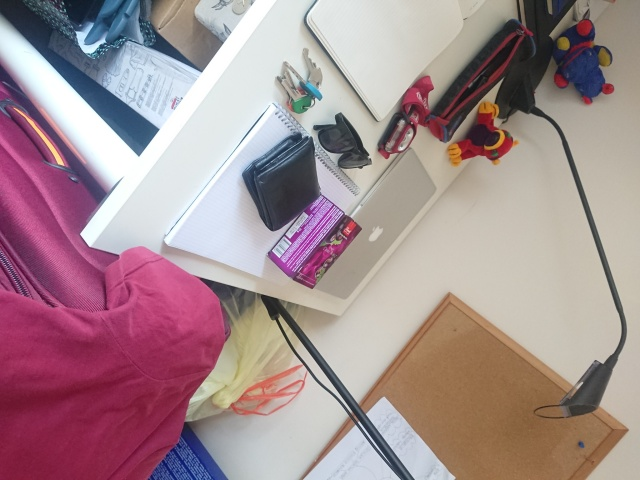Franck Black Currant Tea 60g: (265, 191, 364, 290)
